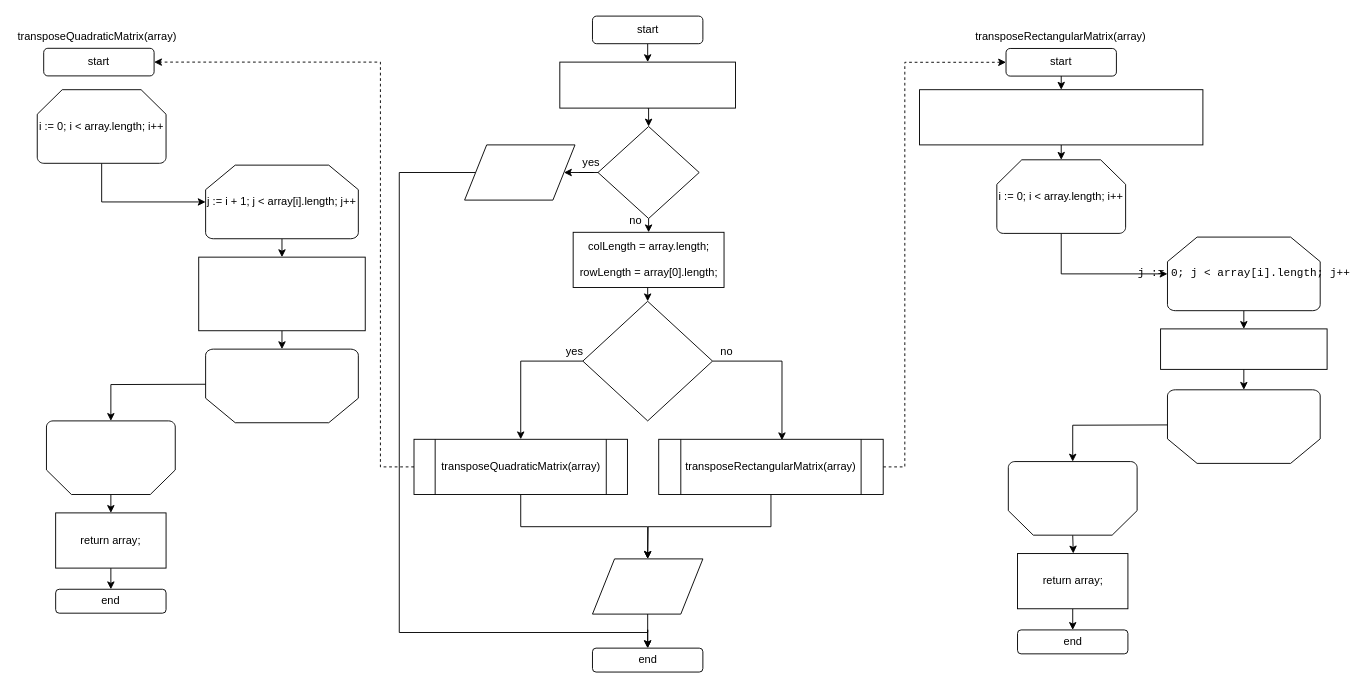
Image size: 1365x688. Some labels were removed from this diagram. Each missing label, with the centre of its shape:
"No array": the point at 519,172
array: the point at 647,586
array := new double [ ][ ] ;: the point at 647,84
array == null: the point at 648,172
colLength == rowLength: the point at 647,360
temp = array[i][j] ; array[i][j] = array [j][i] ; array[j][i] = temp ;: the point at 281,293
transArray := new double [array[ 0 ]. length ][array. length ] ;: the point at 1061,117
transArray[j][i] := array[i][j] ;: the point at 1243,348
